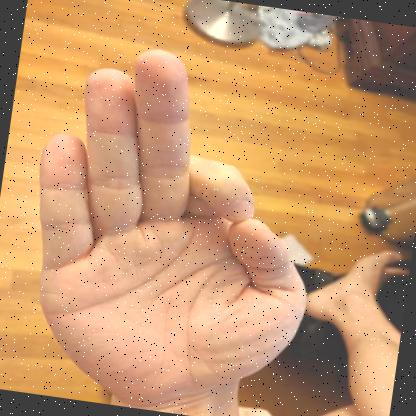F: (39, 49, 306, 416)
